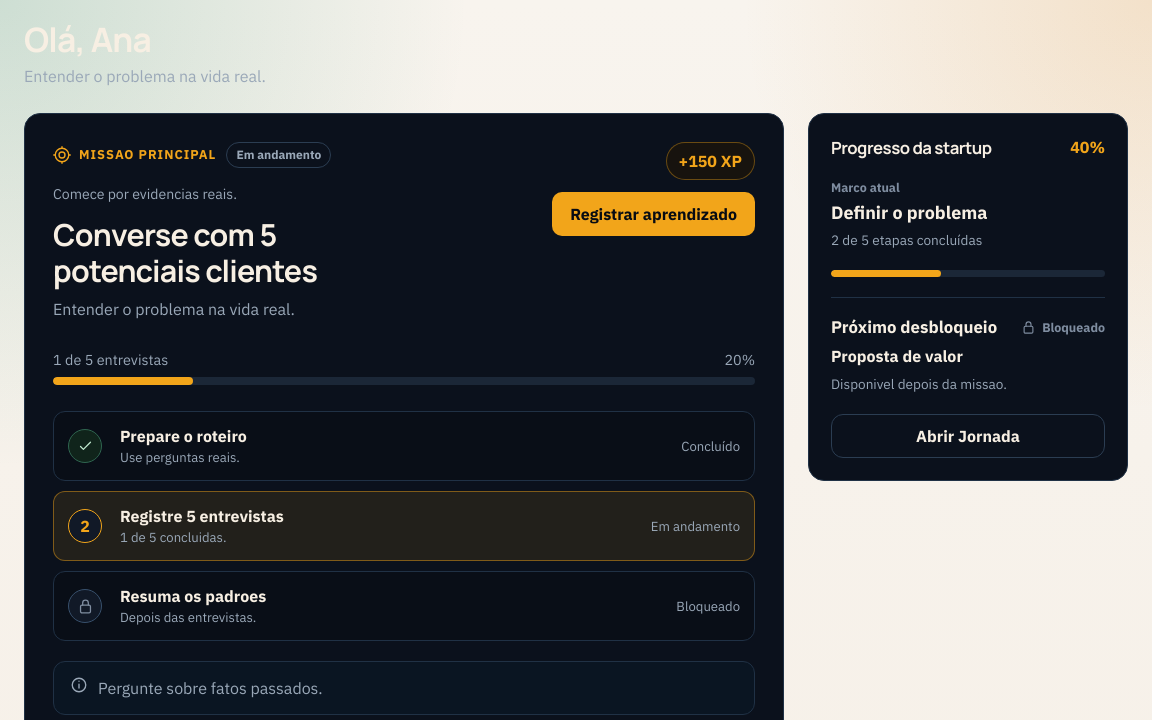
StartupHomeScreen › preserves the original five-conversation learning guidance
Click the button "Registrar aprendizado" at [654, 214], box [552,192,755,236]
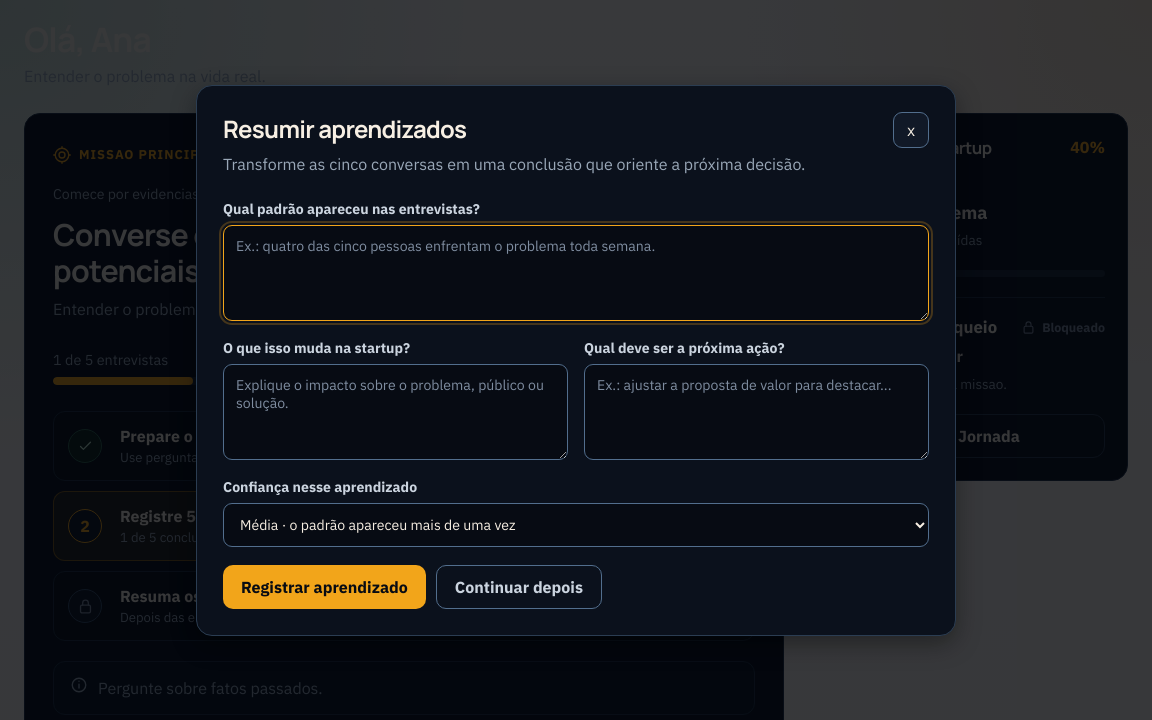
Check: the text "Transforme as cinco conversas em uma conclusão que oriente a próxima decisão." is shown, box [223,152,805,176]
